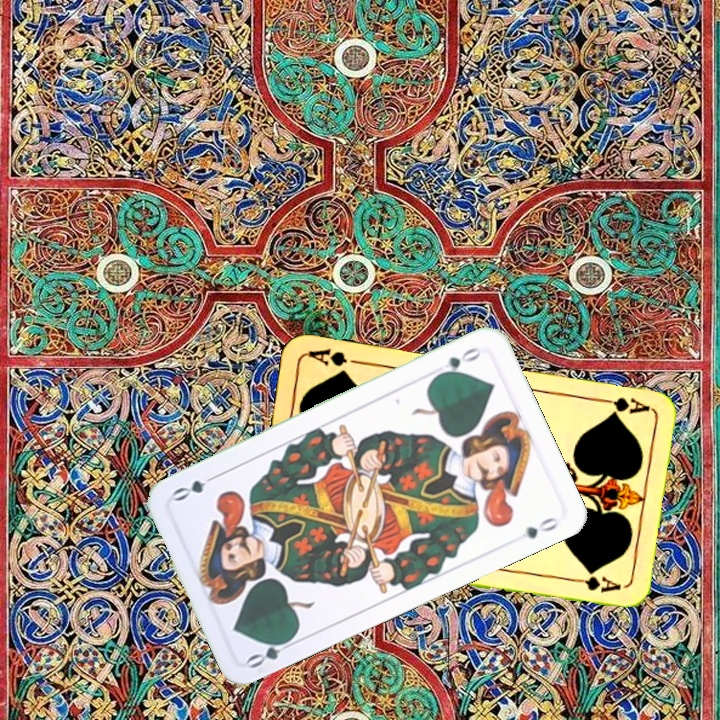GA: (592, 393, 651, 416)
GO: (243, 632, 300, 671), (432, 343, 484, 380)
